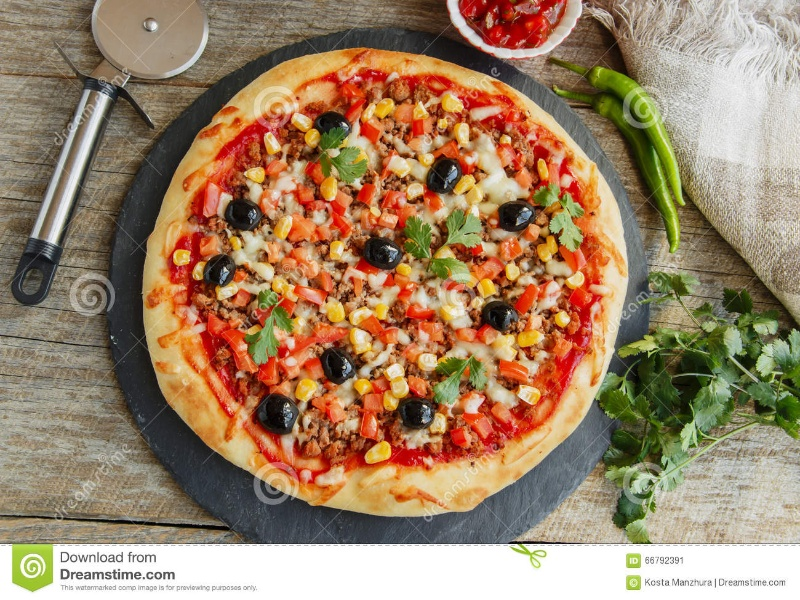olive noir: (359, 231, 411, 272), (221, 189, 270, 232), (256, 393, 303, 433), (398, 393, 442, 432), (425, 155, 466, 196), (493, 198, 539, 233), (319, 348, 359, 384), (200, 250, 235, 291), (480, 297, 517, 331)
